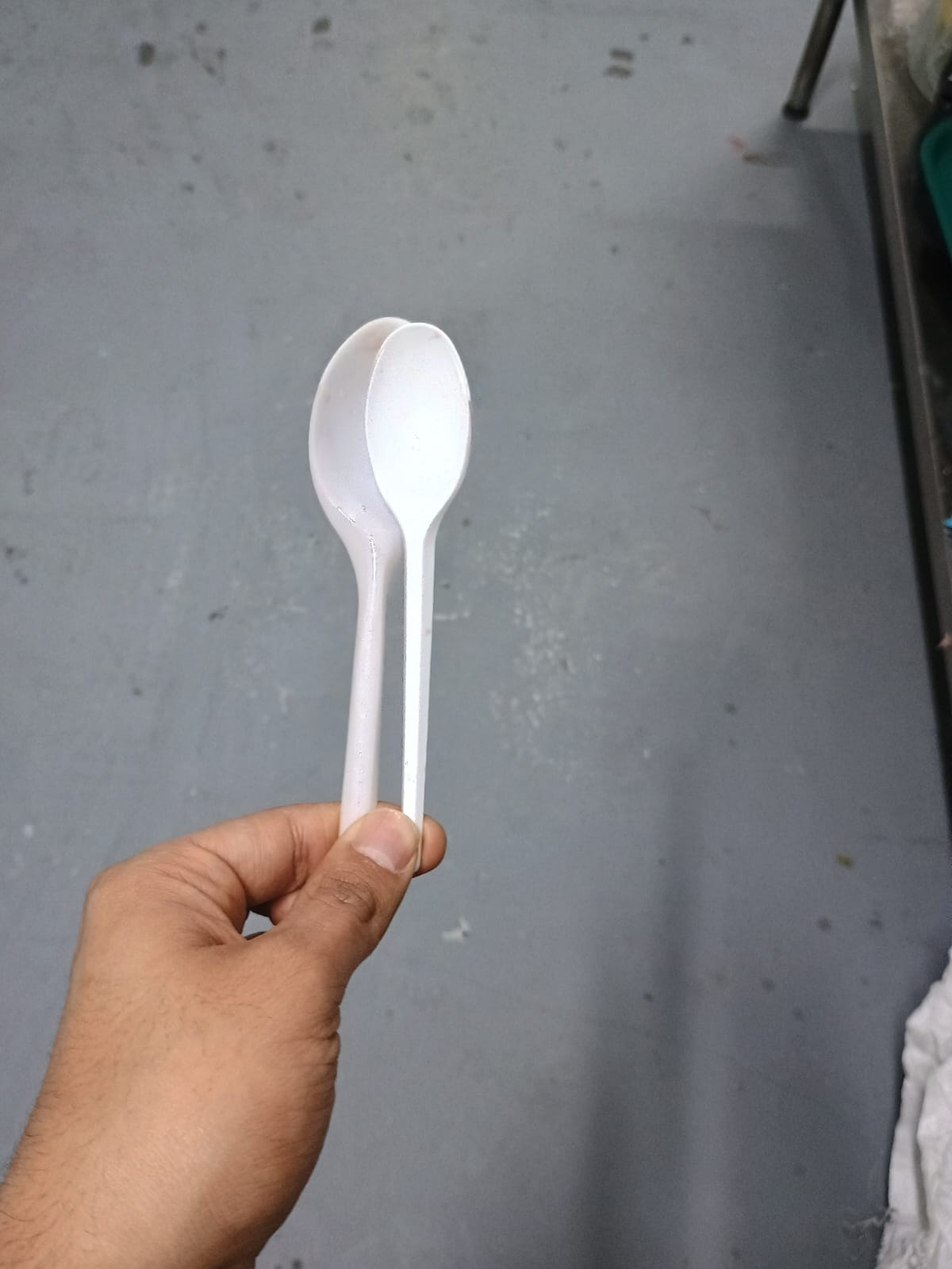Ordinario: (301, 319, 473, 830)
